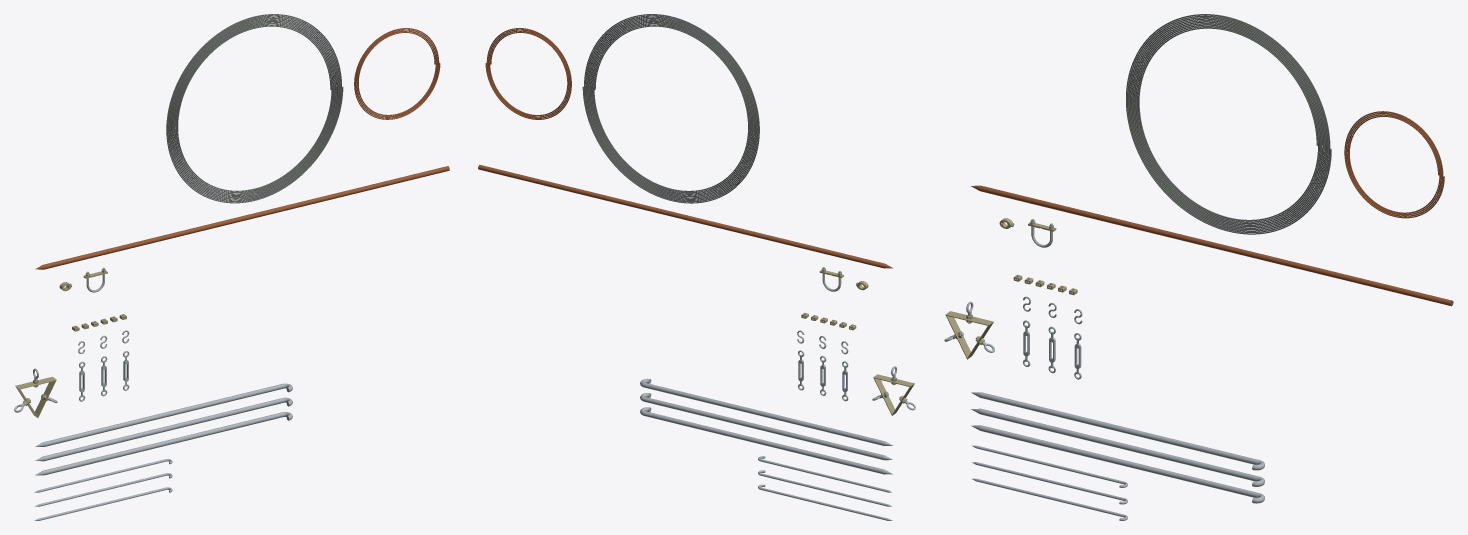
File: weather_anchoring_loose_kits.glb
3 views of the same model, side by side, from view 1: azimuth 30°, elevation 25°; view 2: azimuth 150°, elevation 25°; view 3: azimuth 330°, elevation 25° (orthographic). The views are drawn at different scales.
Parts seen in each view (by area): view 1: uncut_guy_wire, ground_rod, guy_stake_3, guy_stake_1, guy_stake_2, uncut_ground_wire, guy_collar_triangular_band; view 2: uncut_guy_wire, ground_rod, guy_stake_3, guy_stake_2, guy_stake_1, uncut_ground_wire, guy_collar_triangular_band; view 3: uncut_guy_wire, ground_rod, guy_stake_1, guy_stake_3, guy_stake_2, uncut_ground_wire, guy_collar_triangular_band, foot_stake_3, foot_stake_2, foot_stake_1.
Boxes of the visible parts, <box> form: uncut_guy_wire: <box>166,14,343,203</box>; ground_rod: <box>35,166,449,269</box>; guy_stake_3: <box>35,412,292,475</box>; guy_stake_1: <box>35,383,292,446</box>; guy_stake_2: <box>35,397,292,461</box>; uncut_ground_wire: <box>354,28,440,119</box>; guy_collar_triangular_band: <box>15,376,56,417</box>; uncut_guy_wire: <box>582,14,759,203</box>; ground_rod: <box>478,164,892,268</box>; guy_stake_3: <box>640,407,892,474</box>; guy_stake_2: <box>640,393,892,460</box>; guy_stake_1: <box>640,378,892,445</box>; uncut_ground_wire: <box>485,28,571,119</box>; guy_collar_triangular_band: <box>873,374,914,415</box>; uncut_guy_wire: <box>1126,14,1331,234</box>; ground_rod: <box>971,185,1453,306</box>; guy_stake_1: <box>971,392,1264,470</box>; guy_stake_3: <box>971,425,1264,503</box>; guy_stake_2: <box>971,408,1264,486</box>; uncut_ground_wire: <box>1344,111,1444,218</box>; guy_collar_triangular_band: <box>945,311,993,359</box>; foot_stake_3: <box>972,478,1127,520</box>; foot_stake_2: <box>972,462,1127,504</box>; foot_stake_1: <box>972,445,1127,487</box>.
Bounding box in the file's own units: 1.28 × 1.27 × 0.0401.
